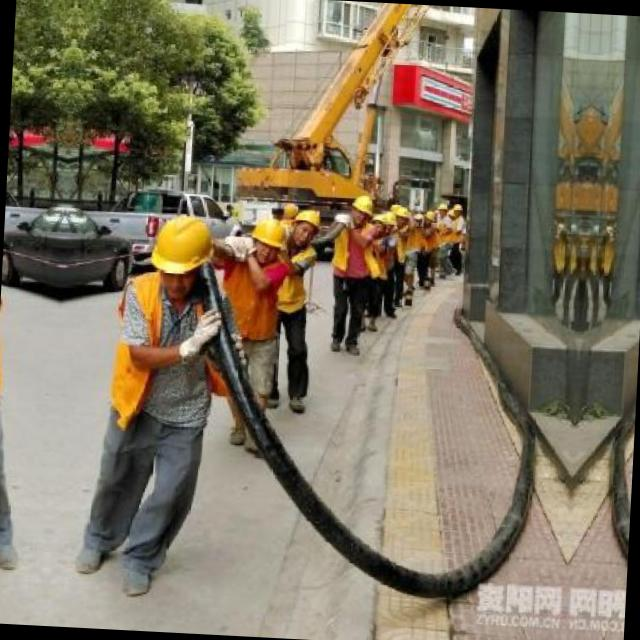helmet: (142, 212, 215, 296), (247, 214, 284, 266), (290, 205, 320, 248), (350, 192, 376, 227), (366, 210, 386, 237), (391, 204, 408, 229), (422, 208, 435, 224), (436, 200, 448, 215), (450, 202, 460, 216)
